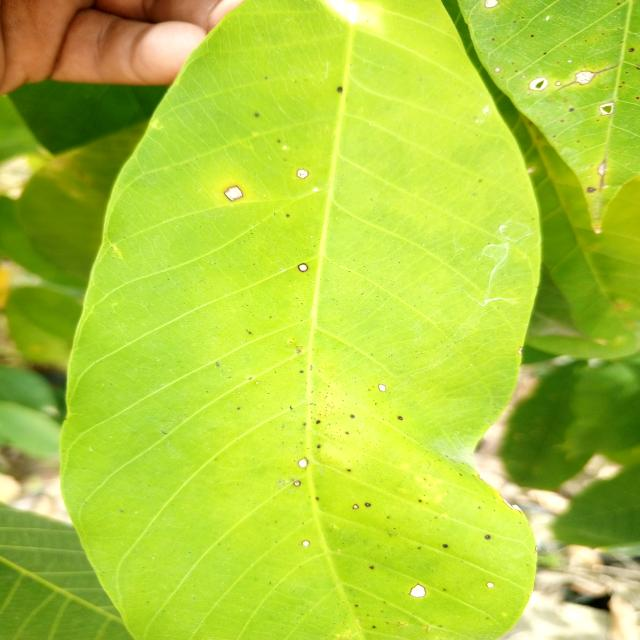Colletotrichum: (224, 185, 243, 202), (409, 584, 426, 598), (296, 168, 309, 180), (484, 0, 500, 8), (298, 263, 309, 272), (298, 459, 308, 467), (378, 383, 386, 392), (302, 540, 311, 546), (486, 582, 494, 588), (494, 67, 501, 73), (352, 504, 358, 509), (364, 502, 370, 507), (294, 481, 300, 486), (484, 535, 491, 539), (442, 544, 448, 548), (554, 82, 562, 85), (398, 416, 403, 420)
